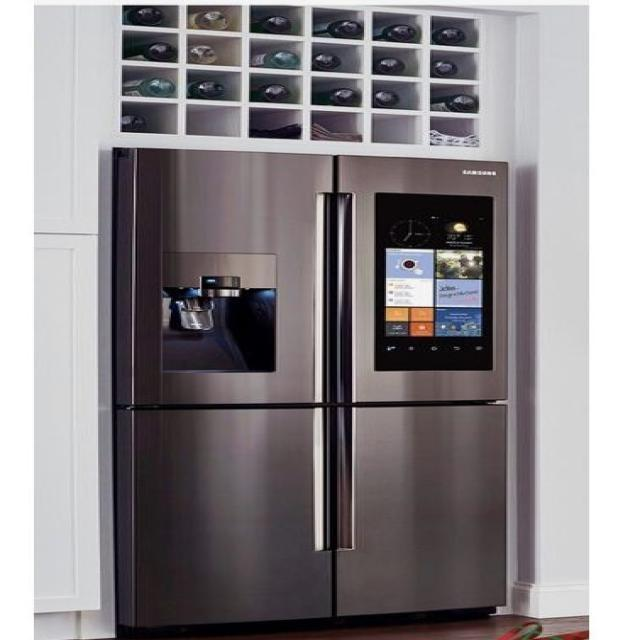obstacle: (108, 146, 513, 636)
